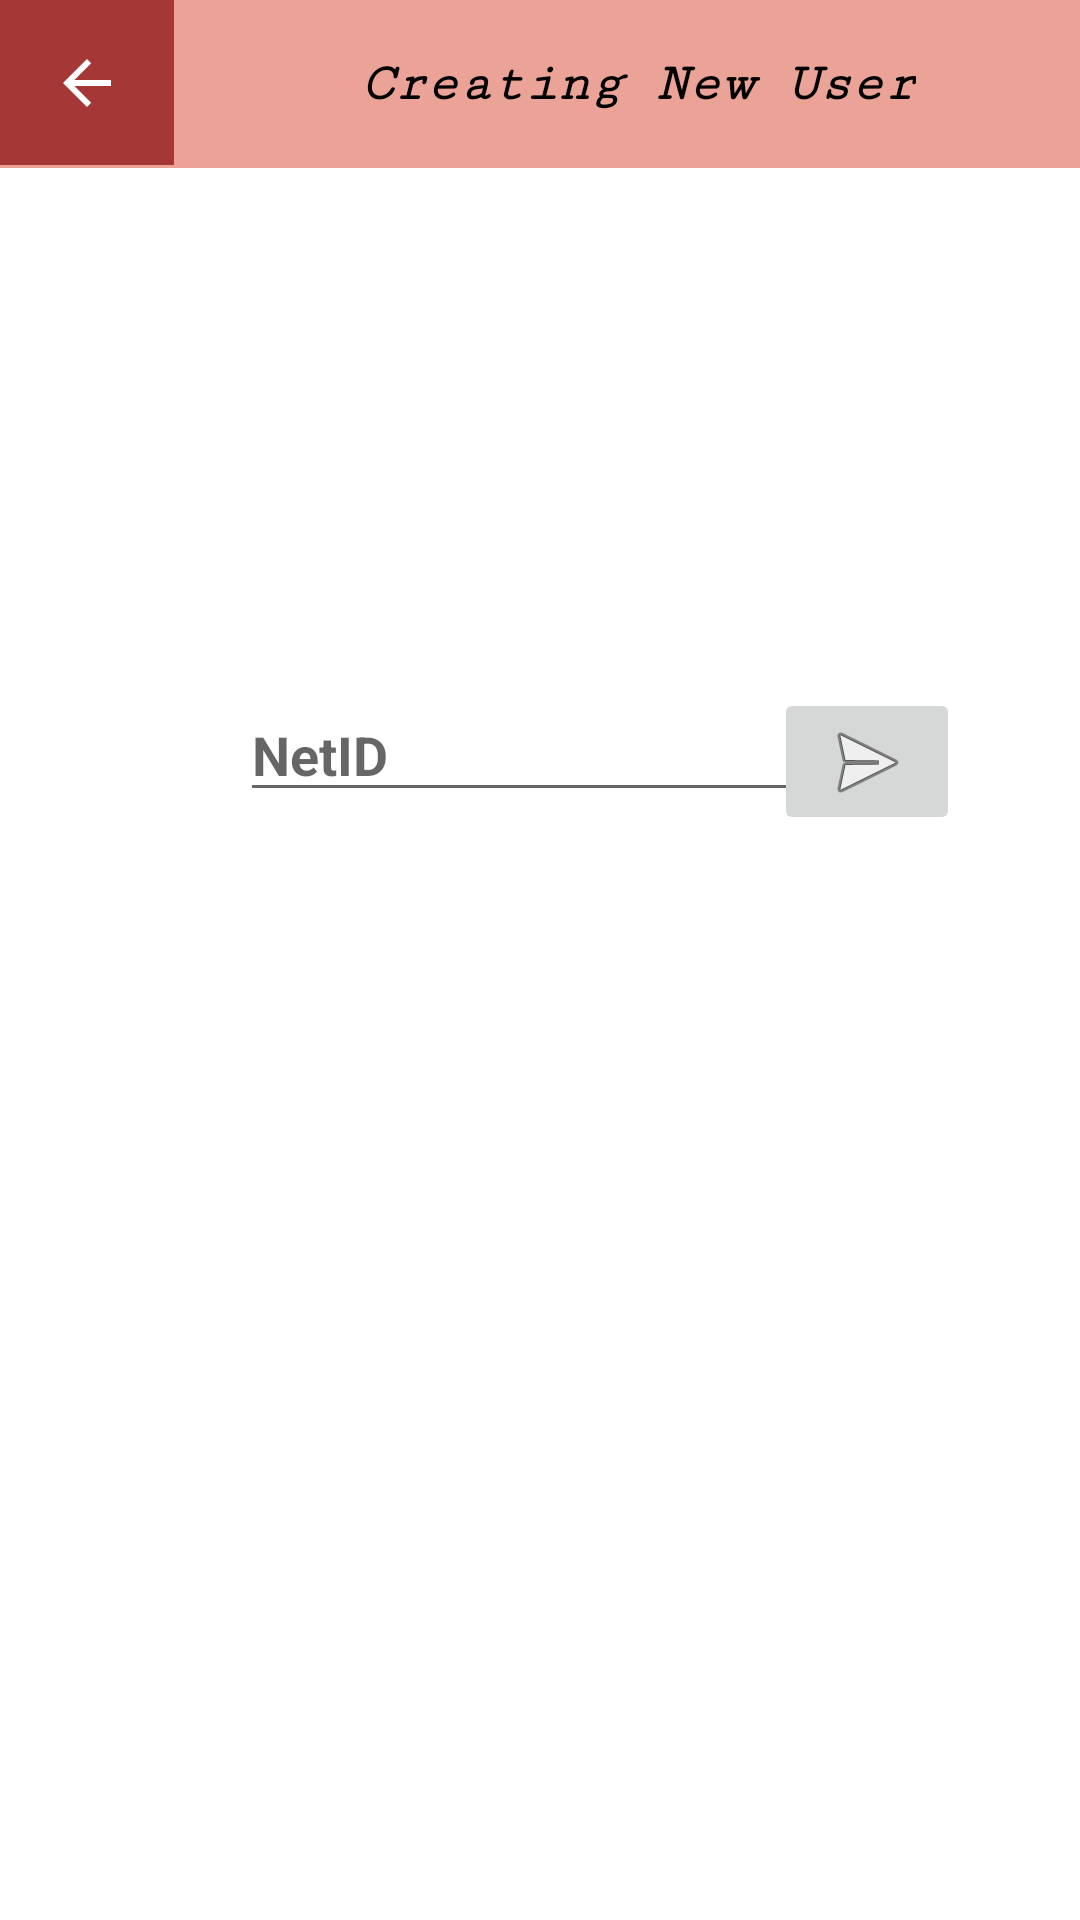

Icon bounding boxes for this 1080 x 1920 phone screenshot, format region(x1, y1, x2, y2):
send: region(774, 706, 948, 817)
